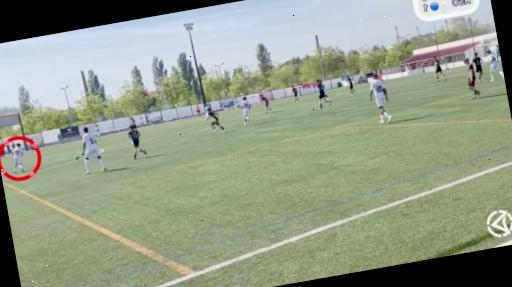highlight_overlay: (0, 131, 46, 185)
